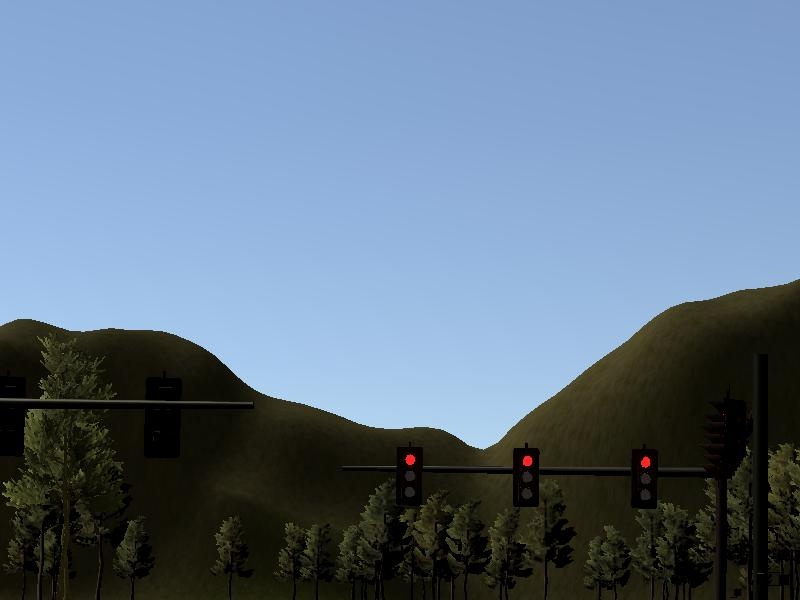RED: (511, 447, 541, 506), (393, 447, 423, 506), (630, 448, 660, 507)
